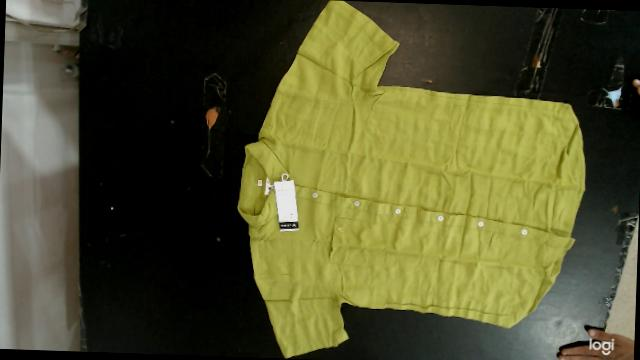new-garment: (238, 0, 585, 357)
